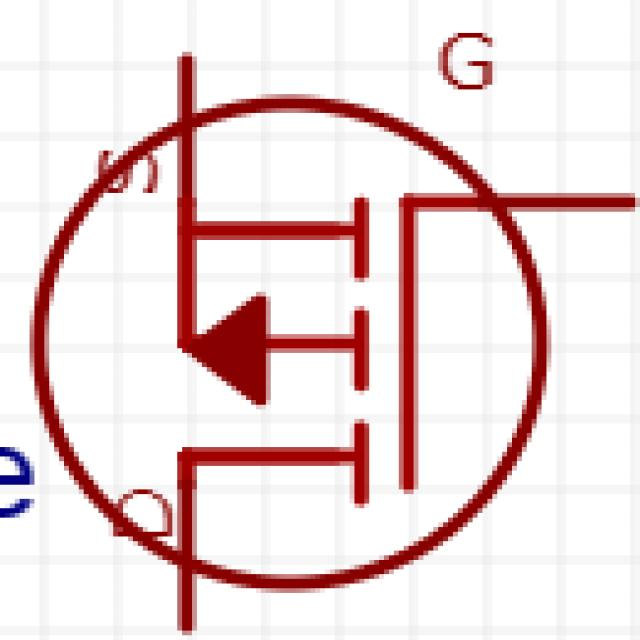pmos: (3, 20, 640, 640)
